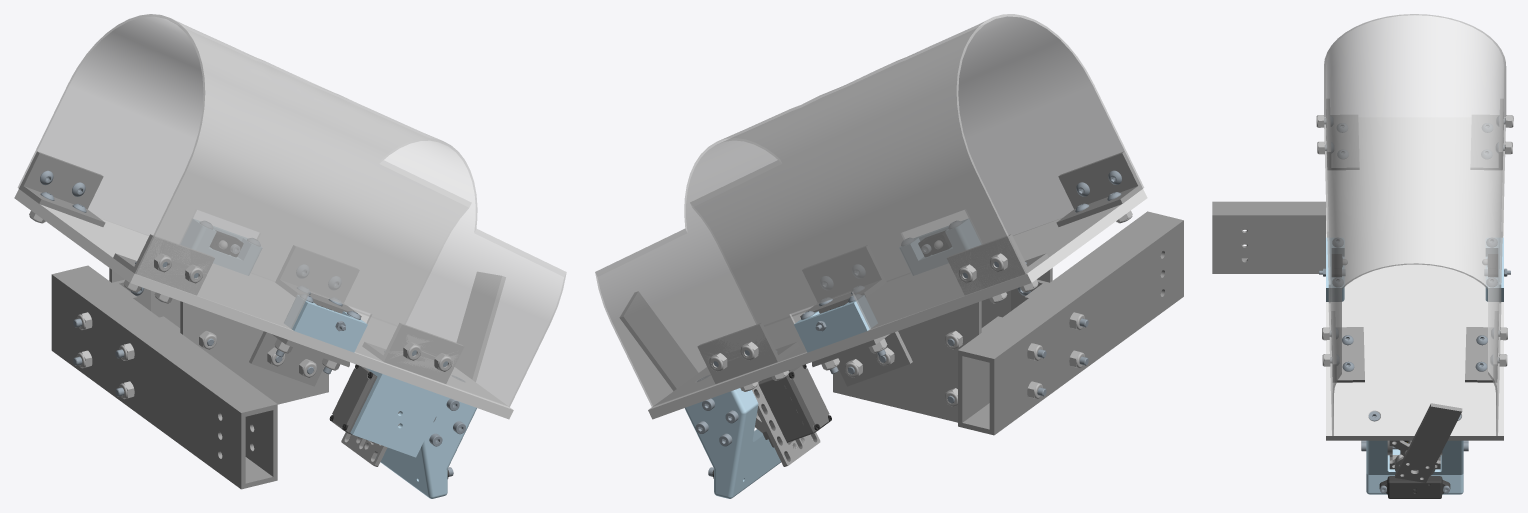
3 views of the same model, side by side, from view 1: azimuth 30°, elevation 25°; view 2: azimuth 150°, elevation 25°; view 3: azimuth 270°, elevation 25° (orthographic). The views are drawn at different scales.
Visible parts, largest first — view 1: shield, tube, plate, shieldB (×2), triangle (×2), shieldB -mirrored (CAD convenience part) (×2), Snake Holder, 3DP Servo Mount, horn, break beam block, BLT (CAD convenience part), break beam block (mirrored, CAD convenience) (+2 smaller); view 2: shield, tube, plate, triangle (×2), shieldB -mirrored (CAD convenience part) (×2), 3DP Servo Mount, shieldB (×2), Servo Body, horn, break beam block (mirrored, CAD convenience), BLT (CAD convenience part), break beam block (+1 smaller); view 3: shield, plate, tube, shieldB -mirrored (CAD convenience part) (×2), shieldB (×2), horn, 3DP Servo Mount, Case_BottomCover, break beam block, break beam block (mirrored, CAD convenience).
Boxes of the visible parts, x1,y1,x2,y2 form: shield: (17,14,566,406); tube: (51,265,277,489); plate: (14,189,513,419); shieldB (×2): (19,151,361,317); triangle (×2): (109,268,328,404); shieldB -mirrored (CAD convenience part) (×2): (113,234,463,383); Snake Holder: (350,368,445,457); 3DP Servo Mount: (380,397,476,498); horn: (455,272,505,381); break beam block: (284,295,367,352); BLT (CAD convenience part): (249,331,349,386); break beam block (mirrored, CAD convenience): (180,219,261,275); shield: (595,14,1144,406); tube: (958,211,1183,435); plate: (648,189,1147,419); triangle (×2): (833,268,1052,422); shieldB -mirrored (CAD convenience part) (×2): (800,151,1142,317); 3DP Servo Mount: (684,388,785,498); shieldB (×2): (697,234,1048,383); Servo Body: (754,364,831,447); horn: (620,291,697,390); break beam block (mirrored, CAD convenience): (794,295,877,352); BLT (CAD convenience part): (812,331,912,386); break beam block: (899,219,980,275); shield: (1324,14,1506,435); plate: (1326,117,1503,440); tube: (1212,201,1325,273); shieldB -mirrored (CAD convenience part) (×2): (1326,99,1364,382); shieldB (×2): (1465,99,1503,382); horn: (1395,403,1462,482); 3DP Servo Mount: (1366,440,1463,494); Case_BottomCover: (1379,476,1450,498); break beam block: (1326,237,1344,301); break beam block (mirrored, CAD convenience): (1485,237,1503,301).
Size of the model in its own units: 0.3113 by 0.3387 by 0.236.
